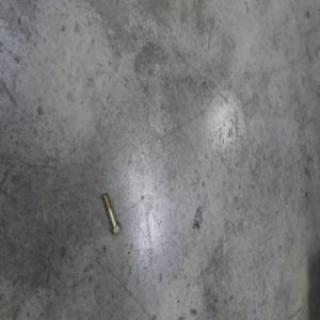Bolttrack_idkeyframe: (100, 190, 120, 235)
